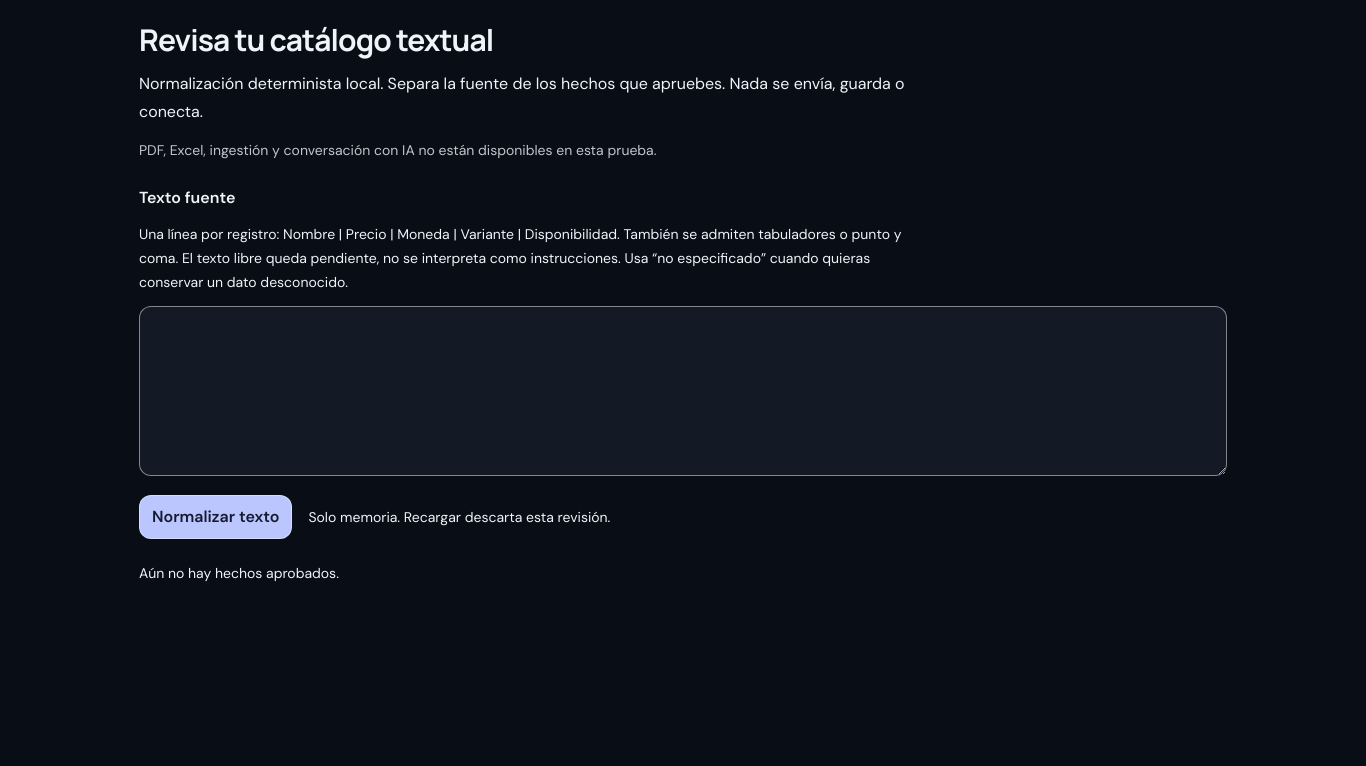
Test case: ambiguous records remain pending until corrected or explicitly unknown
Later steps or results of the test are not shown.
In the text box labelled "Texto fuente": (683, 391) x1=139 y1=306 x2=1227 y2=476, type "Café | $10 | | | "
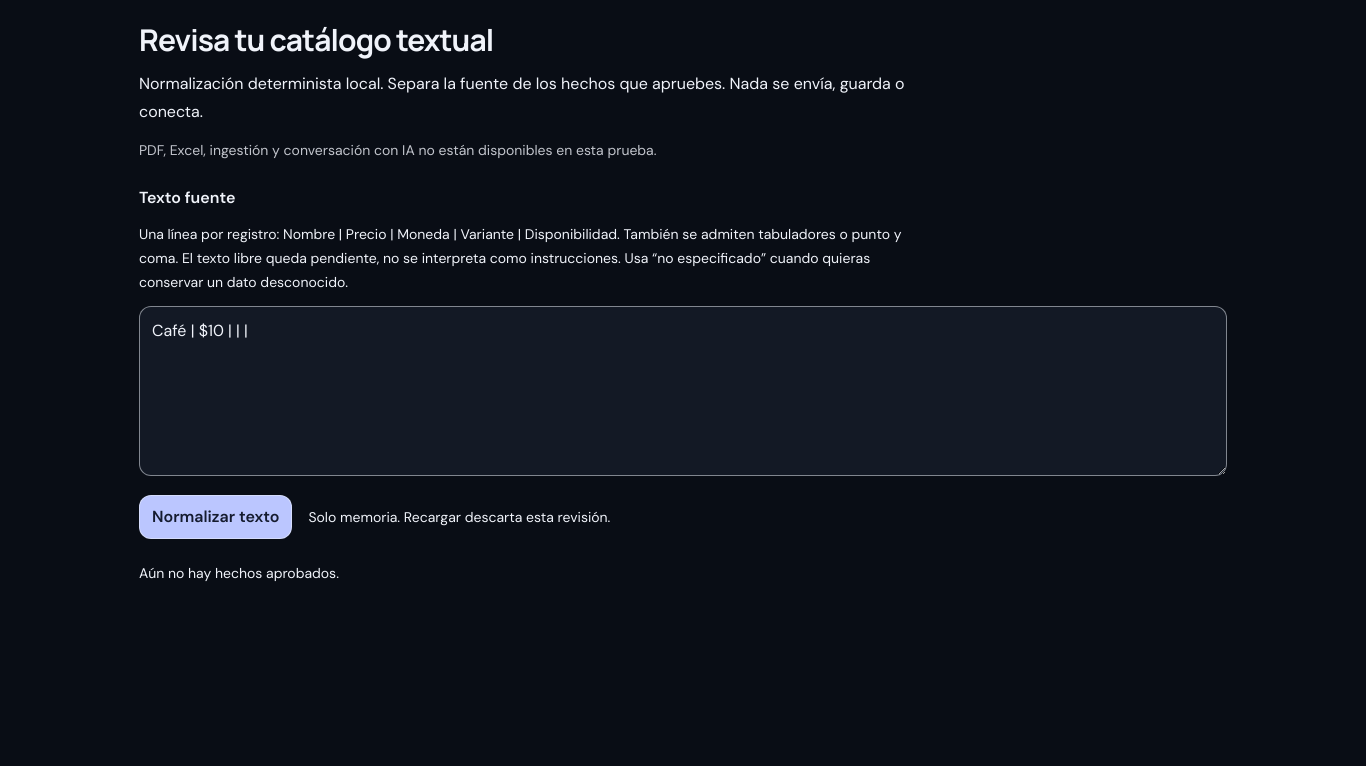
Click the button "Normalizar texto": (216, 517) x1=139 y1=495 x2=292 y2=539
(page scrolled)
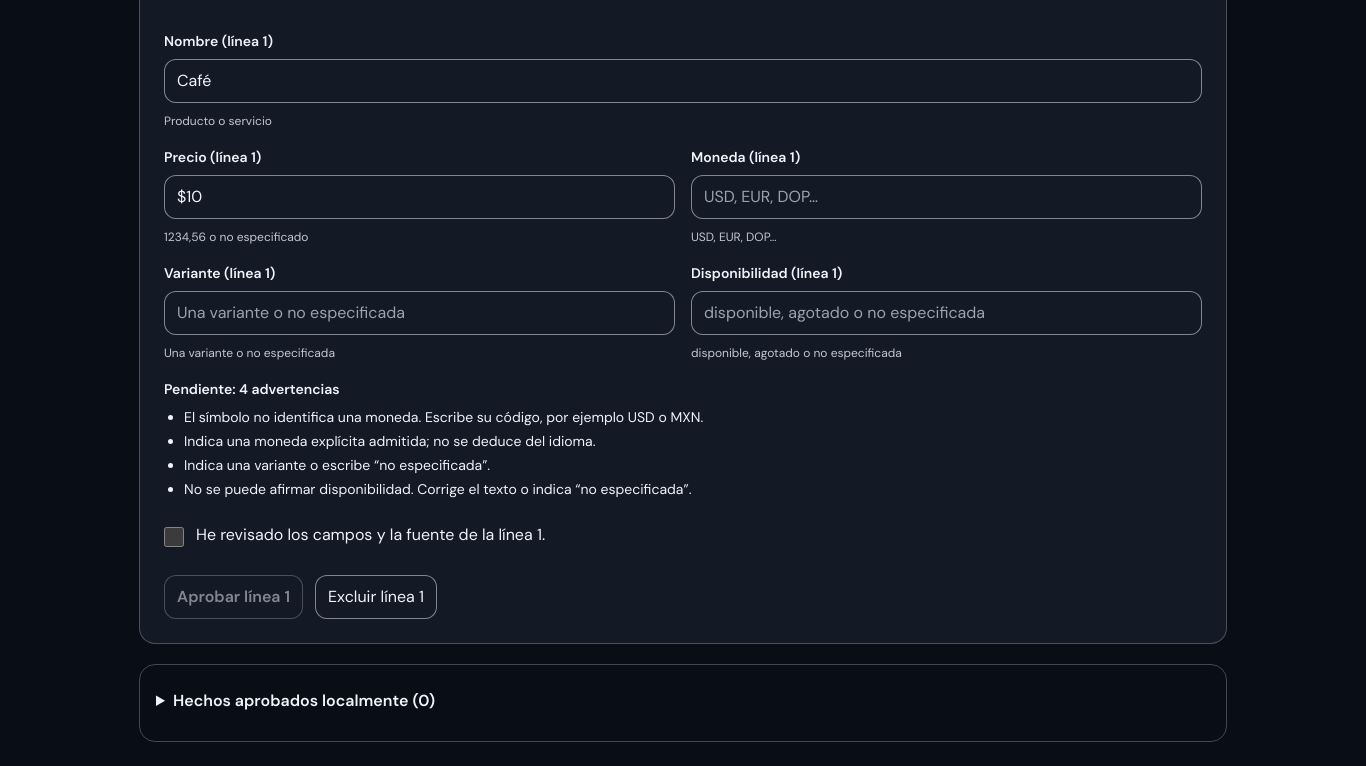
Click the checkbox: (174, 537) x1=164 y1=527 x2=184 y2=547
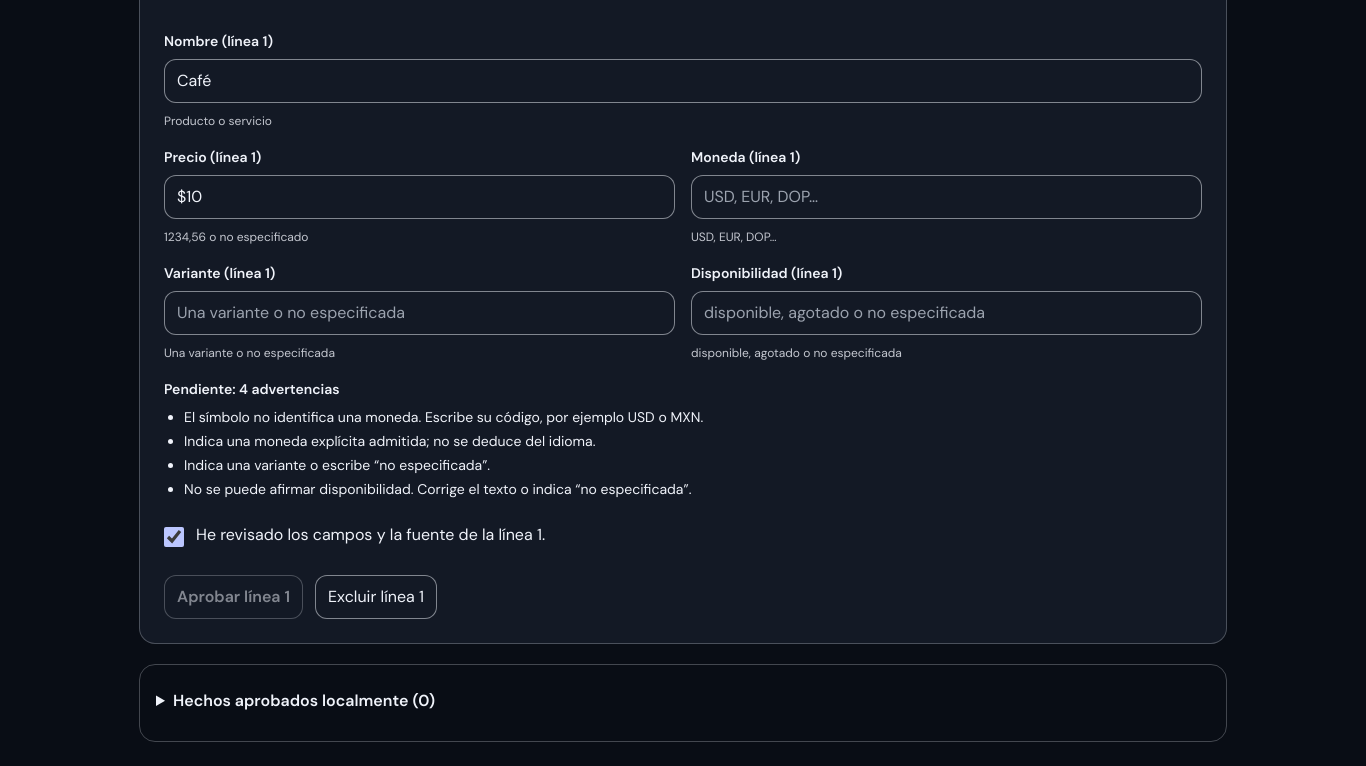
Expected: the button "Aprobar línea 1" is disabled, x1=164 y1=575 x2=303 y2=619
